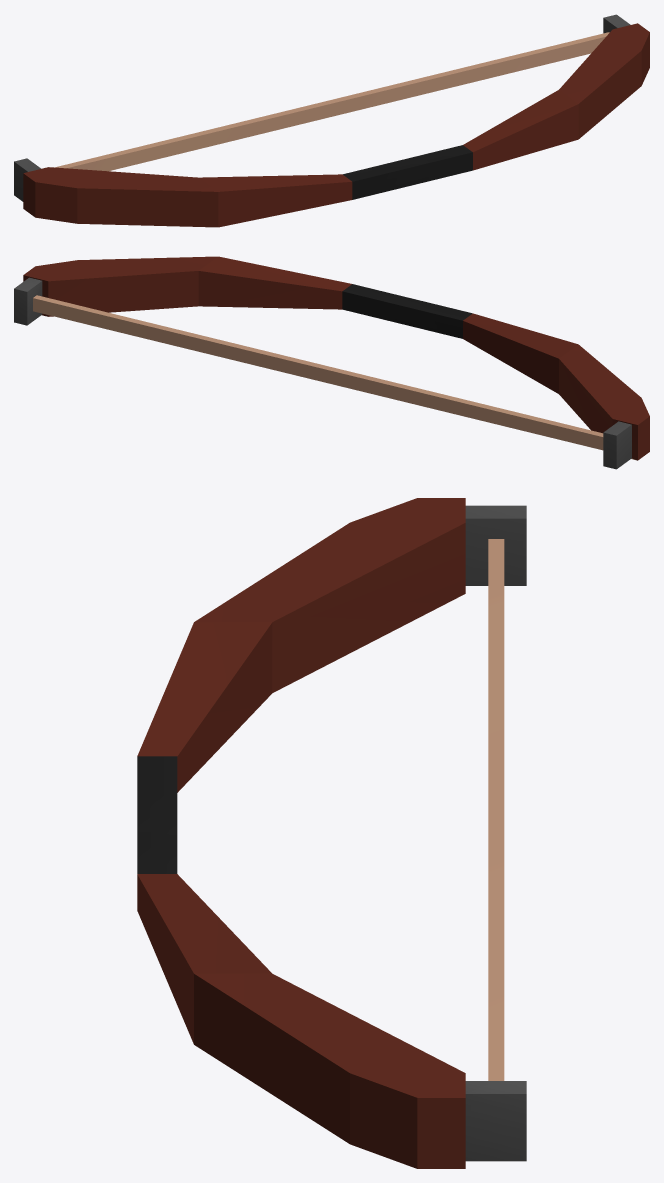
The model's file is Bow.glb.
The picture shows the model from 3 angles, top to bottom: view 1: azimuth 30°, elevation 25°; view 2: azimuth 150°, elevation 25°; view 3: azimuth 270°, elevation 25°; orthographic projection. The views are drawn at different scales.
Visible parts, largest first — view 1: Cube; view 2: Cube; view 3: Cube.
Part boxes in pixels (x1,y1,x2,y2): Cube: [14, 14, 649, 227]; Cube: [14, 256, 649, 469]; Cube: [137, 498, 526, 1168].
Size of the model in its own units: 7.99 by 0.4416 by 2.19.
1 material, 1 textured.
